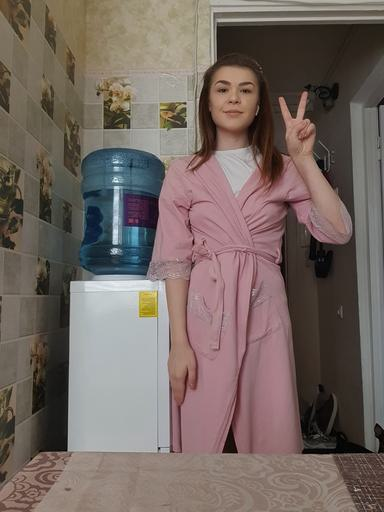peace: (276, 89, 318, 163)
